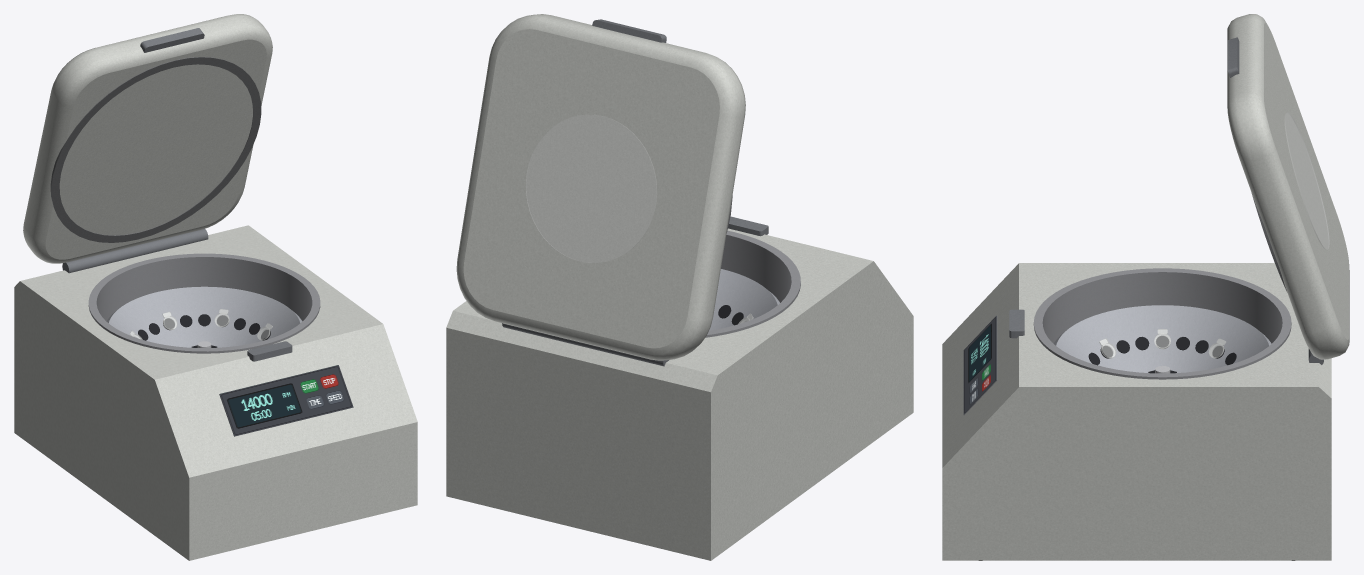
File: cc0-bench-centrifuge.glb
3 views of the same model, side by side, from view 1: azimuth 30°, elevation 25°; view 2: azimuth 150°, elevation 25°; view 3: azimuth 270°, elevation 25° (orthographic). The views are drawn at different scales.
Visible parts, largest first — view 1: Centrifuge housing, Lid, Rotor chamber, Rotor, Control panel, Hinge, Tube bores, Microtubes, Latch; view 2: Centrifuge housing, Lid, Rotor chamber, Rotor, Hinge; view 3: Centrifuge housing, Lid, Rotor chamber, Rotor, Control panel, Tube bores, Microtubes.
Boxes of the visible parts, x1,y1,x2,y2 form: Centrifuge housing: (14,225,417,560); Lid: (23,14,272,263); Rotor chamber: (88,253,320,353); Rotor: (106,286,302,347); Control panel: (219,365,353,436); Hinge: (62,228,208,273); Tube bores: (138,314,270,340); Microtubes: (129,309,272,340); Latch: (247,341,292,361); Centrifuge housing: (446,228,913,560); Lid: (456,14,745,360); Rotor chamber: (705,230,800,337); Rotor: (709,269,779,330); Hinge: (502,323,668,366); Centrifuge housing: (942,263,1331,560); Lid: (1227,14,1349,359); Rotor chamber: (1033,268,1291,379); Rotor: (1054,305,1271,372); Control panel: (963,315,997,415); Tube bores: (1088,336,1236,365); Microtubes: (1099,329,1225,358).
Size of the model in its own units: 0.23 by 0.3939 by 0.3189.
Materials: 12 (12 with a texture image).
